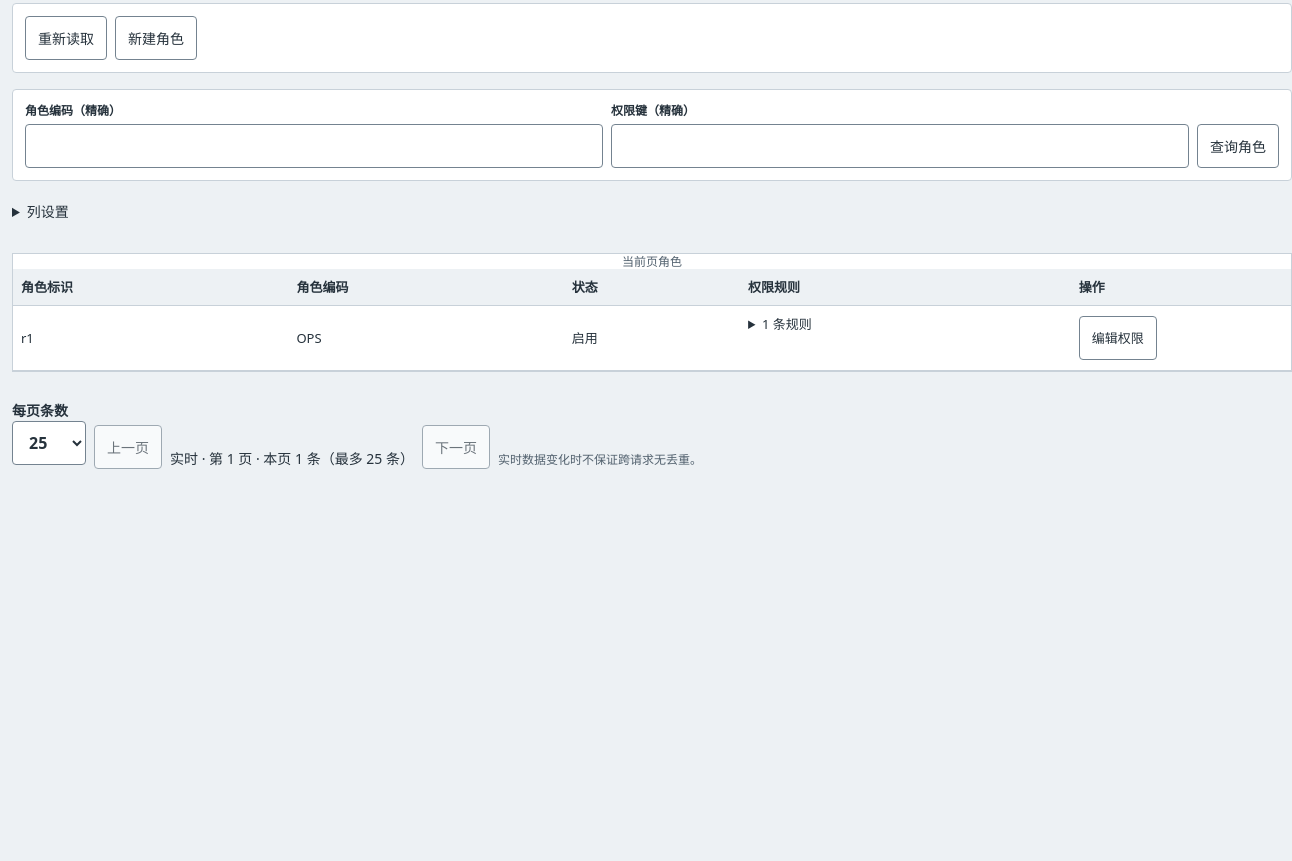
Test case: resolves saved department references independently when editing a role
Click the button with test id "edit-role": (1118, 338) top-left (1079, 316), bottom-right (1157, 360)
(page scrolled)
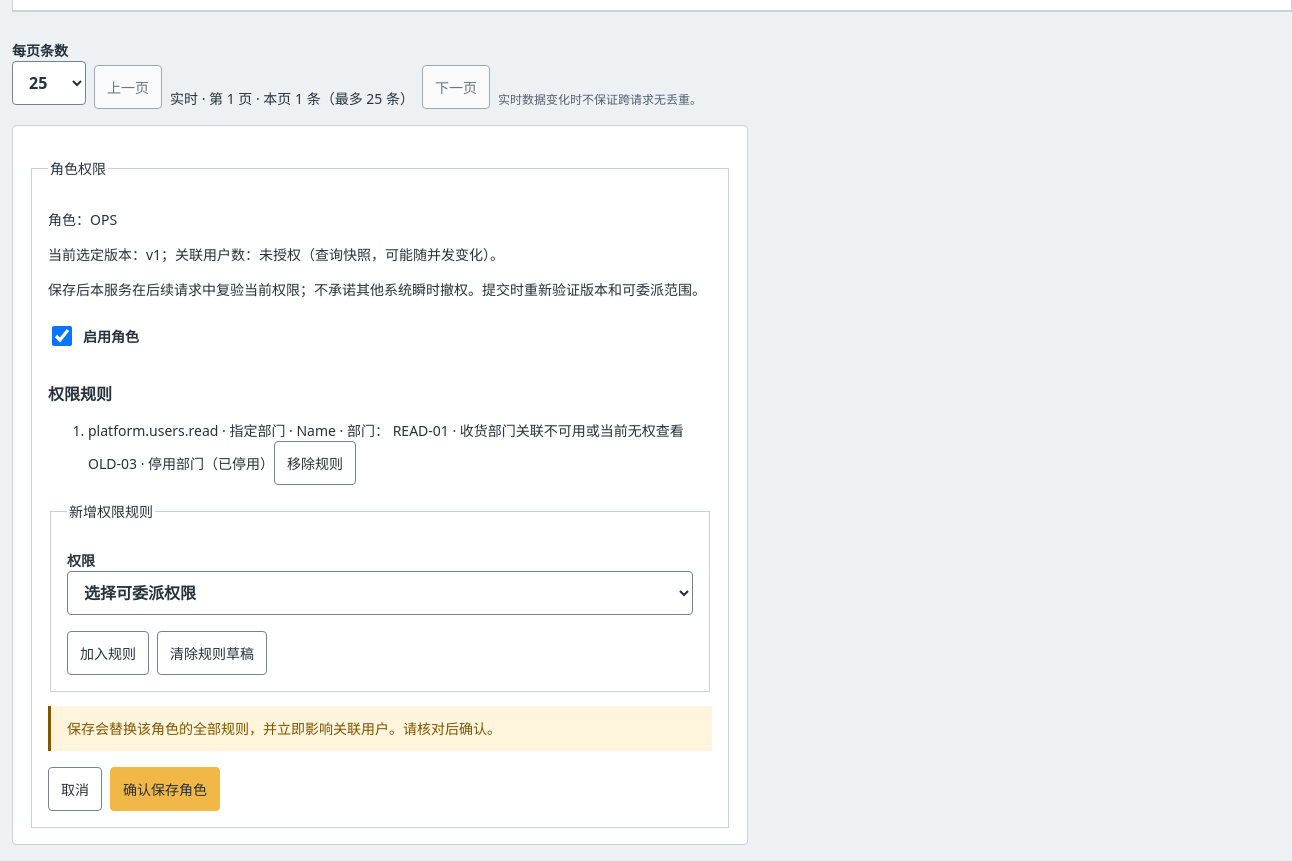
Result: the form with test id "role-form" shows "READ-01 · 收货部门" at top-left (393, 421), bottom-right (516, 440)
Result: the form with test id "role-form" shows "OLD-03 · 停用部门（已停用）" at top-left (88, 454), bottom-right (274, 473)
Result: the form with test id "role-form" shows "关联不可用或当前无权查看" at top-left (516, 421), bottom-right (684, 440)
